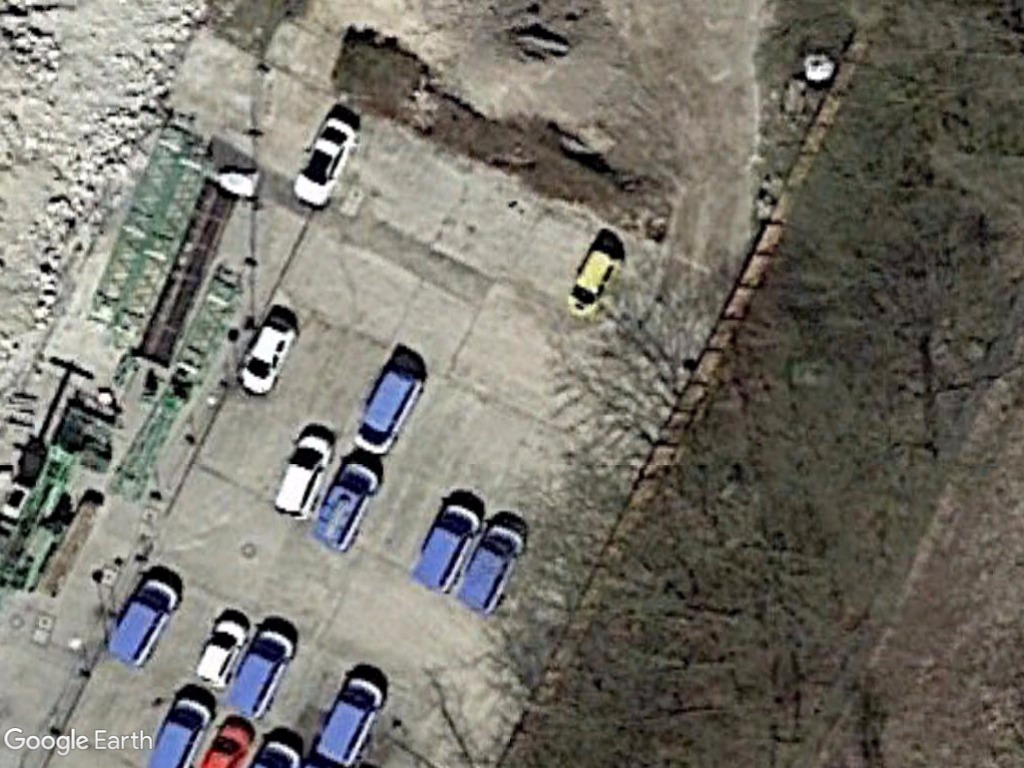car: (284, 113, 360, 213), (233, 314, 299, 398), (191, 613, 250, 692), (564, 246, 622, 318)
van: (451, 516, 531, 618), (104, 575, 185, 670), (411, 498, 487, 598), (351, 364, 430, 459), (309, 675, 389, 768), (225, 626, 300, 722), (312, 458, 384, 549), (273, 430, 337, 524)
